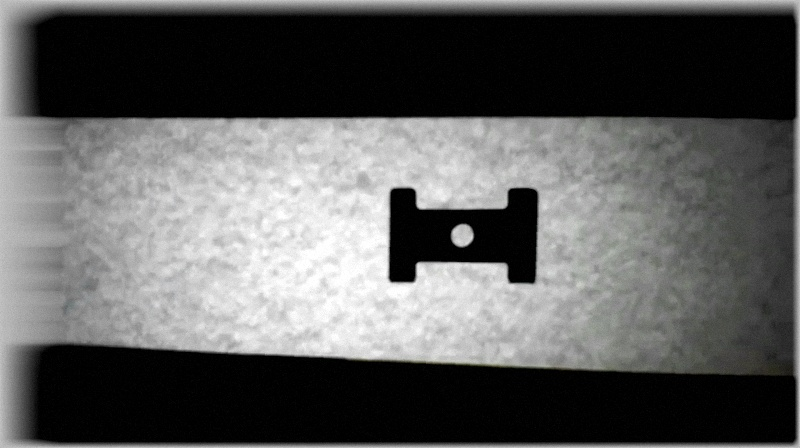O002: (383, 184, 542, 287)
